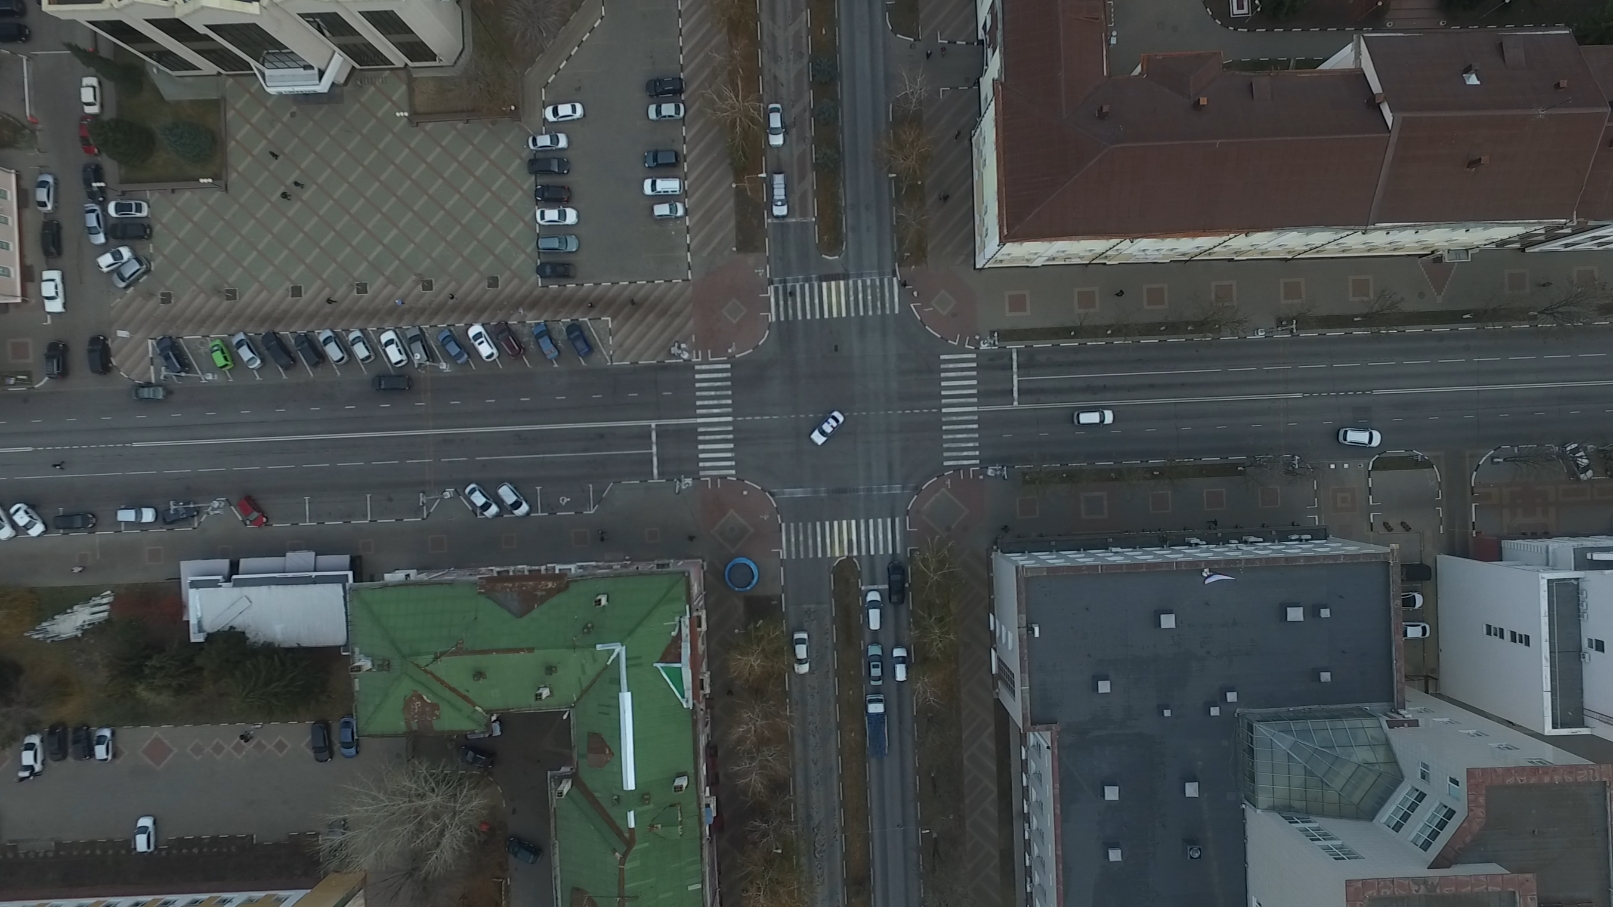car: (147, 336, 187, 378), (803, 408, 846, 446), (459, 481, 500, 518), (866, 691, 888, 759), (257, 332, 292, 374), (1562, 443, 1596, 485), (220, 332, 256, 372), (314, 330, 348, 370), (37, 269, 66, 315), (463, 324, 497, 363), (3, 502, 38, 540), (105, 255, 147, 286), (485, 323, 520, 361), (428, 326, 462, 363), (395, 328, 425, 370), (14, 734, 42, 780), (35, 725, 70, 762), (505, 834, 544, 866), (325, 821, 352, 865), (526, 324, 556, 365), (493, 482, 527, 517), (310, 718, 336, 765), (373, 329, 405, 367), (459, 744, 499, 774), (153, 503, 197, 529), (91, 243, 131, 271), (338, 331, 371, 365), (73, 202, 99, 245), (106, 219, 150, 245), (286, 333, 317, 369), (30, 172, 56, 213), (134, 815, 160, 857), (83, 334, 109, 377), (75, 161, 101, 202), (75, 117, 100, 159), (531, 207, 576, 229), (763, 101, 785, 146), (335, 714, 358, 757), (78, 76, 104, 114), (232, 496, 263, 528), (563, 324, 592, 359), (201, 337, 228, 372), (100, 199, 144, 221), (540, 101, 586, 122), (1338, 427, 1381, 450), (42, 340, 65, 381), (862, 592, 886, 630), (90, 728, 116, 762), (368, 373, 411, 394), (643, 100, 686, 121), (47, 513, 94, 532), (533, 235, 577, 255), (526, 157, 573, 176), (792, 629, 811, 676), (39, 220, 61, 259), (641, 75, 680, 97), (768, 173, 787, 218), (70, 725, 93, 762), (641, 177, 684, 197), (643, 147, 680, 169), (1073, 408, 1118, 426), (888, 561, 907, 606), (530, 184, 569, 204), (528, 133, 571, 152), (531, 262, 574, 280), (648, 202, 686, 221), (131, 383, 171, 402), (892, 645, 910, 684), (112, 506, 153, 523), (1400, 559, 1431, 580), (1, 516, 18, 555), (869, 642, 883, 686), (1403, 621, 1434, 638), (1, 27, 24, 45), (1399, 591, 1422, 609)
